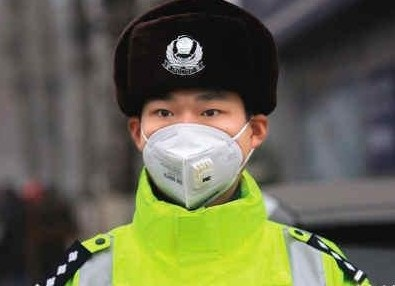face_mask: (139, 82, 248, 206)
